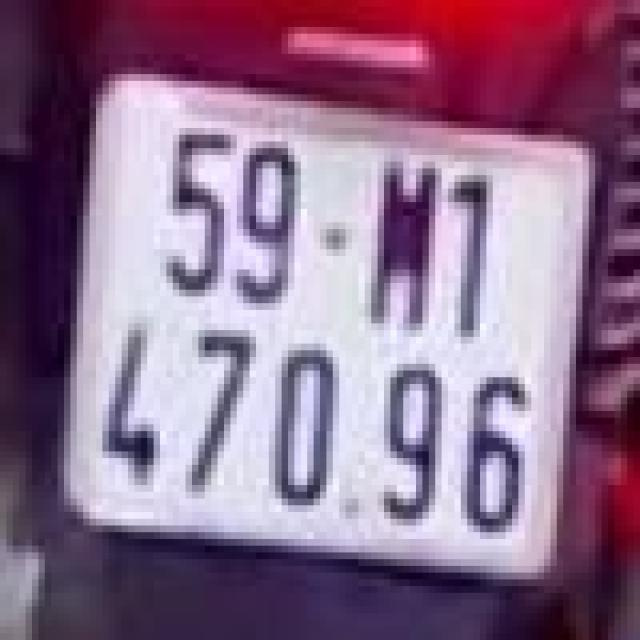0: (262, 324, 340, 526)
1: (448, 158, 493, 347)
4: (96, 313, 166, 502)
5: (163, 118, 234, 300)
6: (464, 364, 528, 546)
7: (180, 324, 262, 498)
9: (368, 347, 445, 529), (240, 128, 310, 303)
M: (362, 152, 438, 340)
